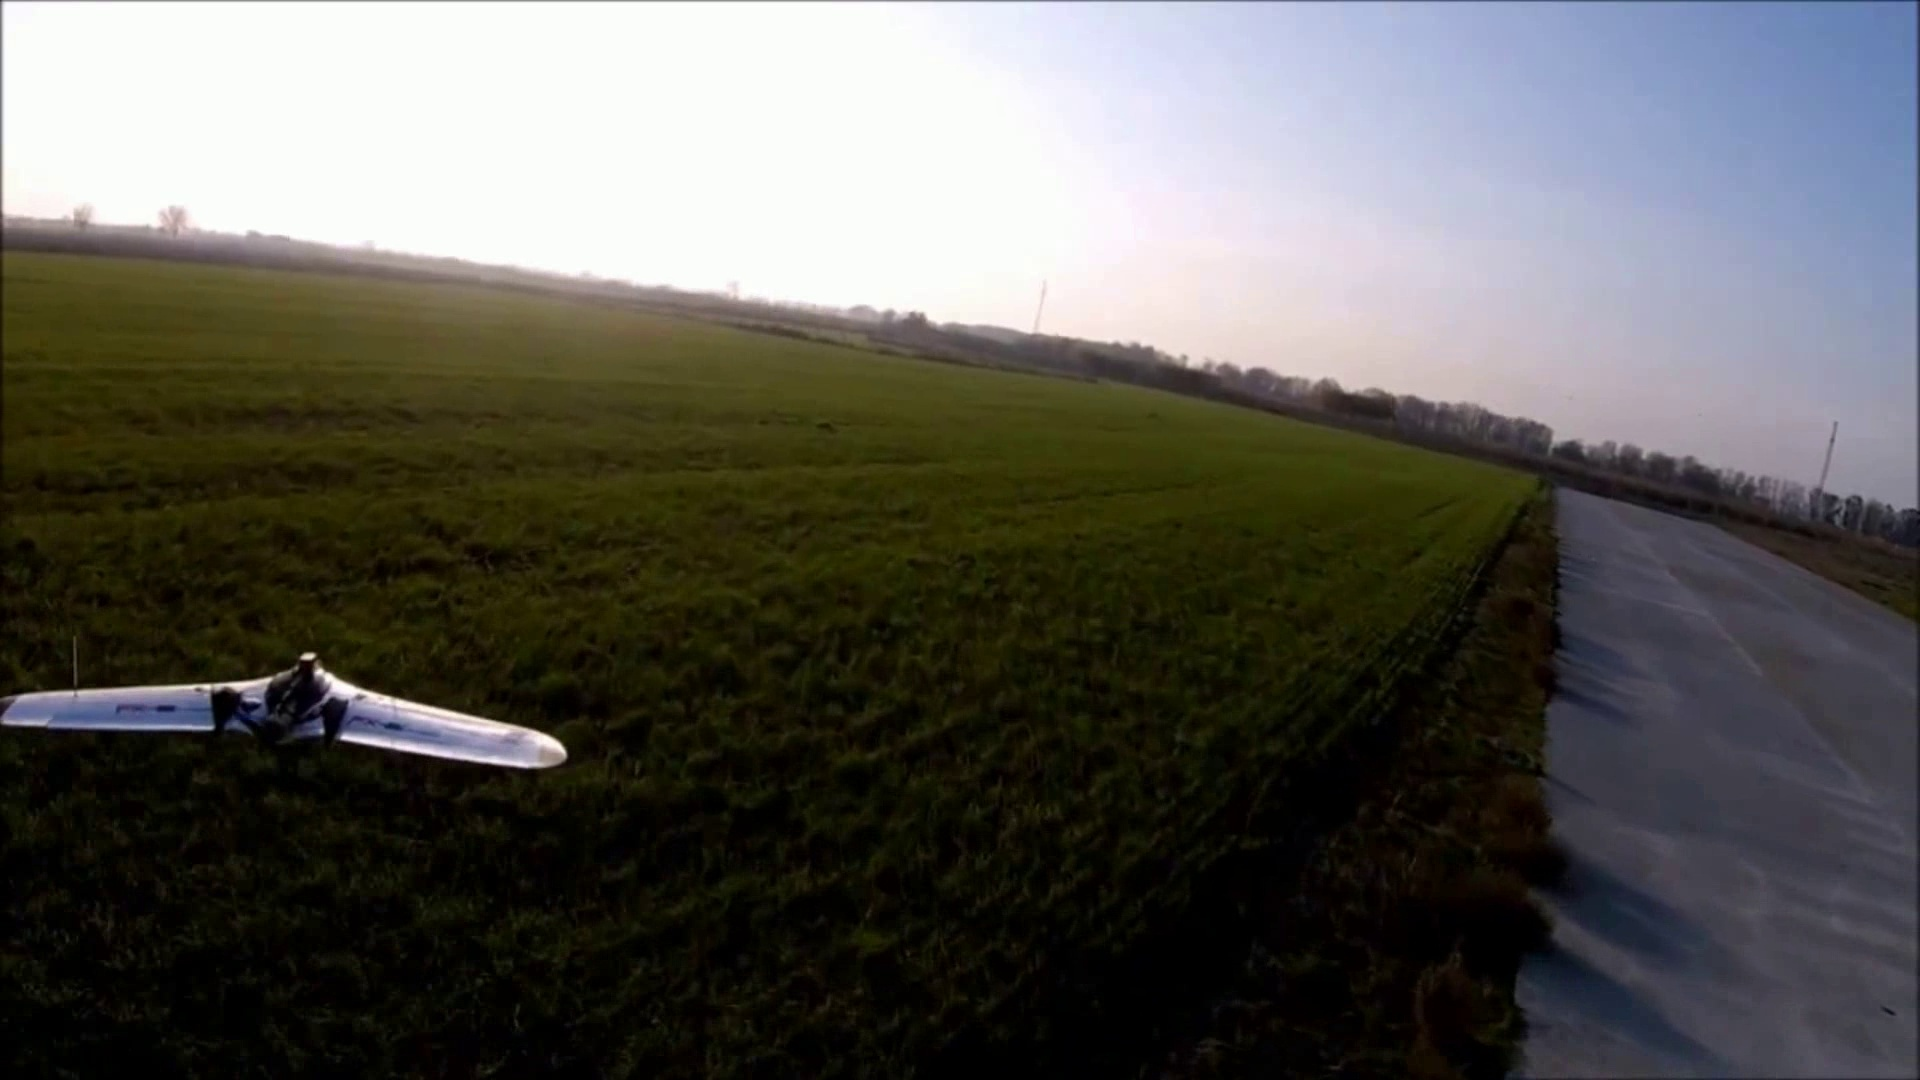airplane: (1, 647, 567, 770)
